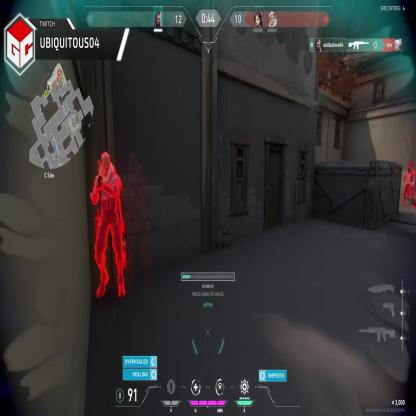enemy: (90, 149, 127, 297), (402, 162, 415, 211)
enemy_head: (100, 153, 111, 178)
